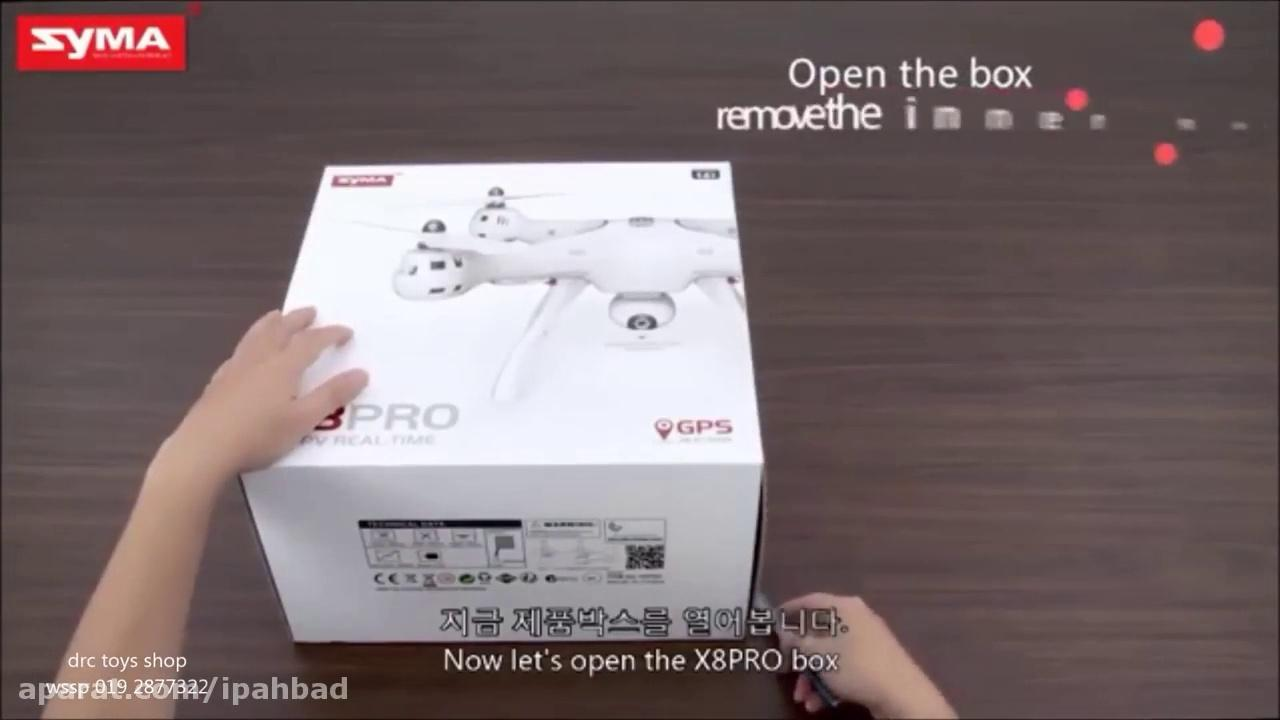drone: (348, 183, 752, 388)
